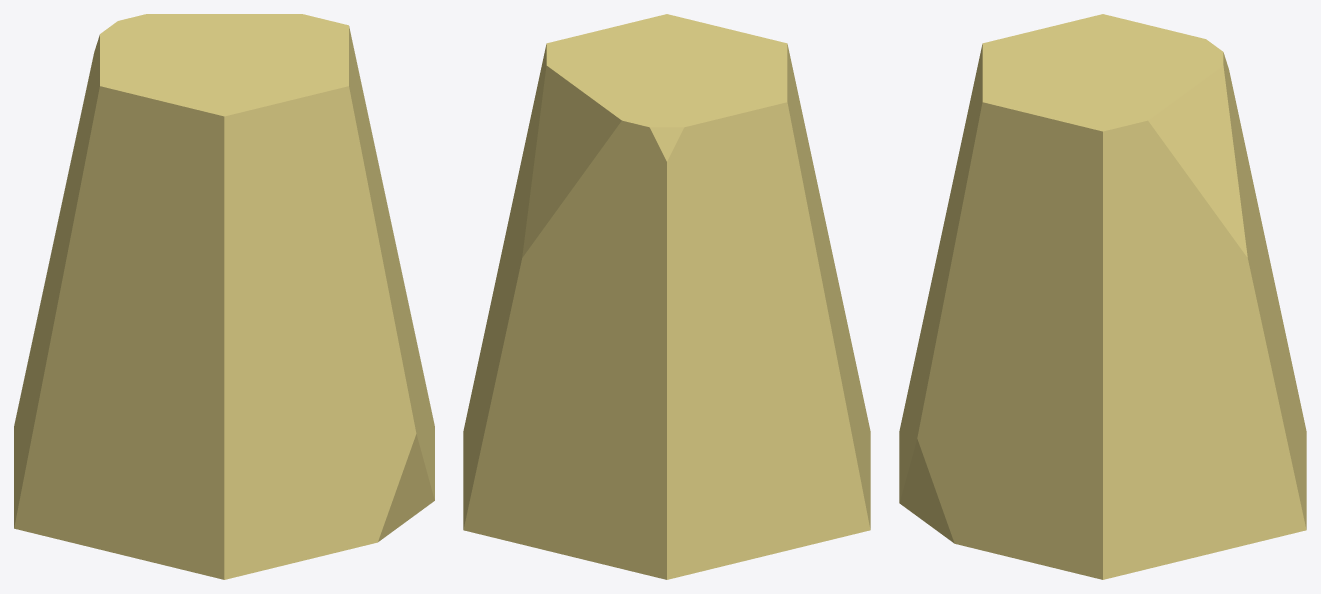
The model's file is rockTile.fbx.
The picture shows the model from 3 angles, left to right: view 1: azimuth 30°, elevation 25°; view 2: azimuth 150°, elevation 25°; view 3: azimuth 270°, elevation 25°; orthographic projection. The views are drawn at different scales.
Parts seen in each view (by area): view 1: Cylinder.878; view 2: Cylinder.878; view 3: Cylinder.878.
Boxes of the visible parts, box(x1,y1,x2,y2) form: Cylinder.878: box(14, 14, 434, 579); Cylinder.878: box(463, 14, 870, 579); Cylinder.878: box(899, 14, 1306, 579).
Size of the model in its own units: 200 by 192 by 173.
